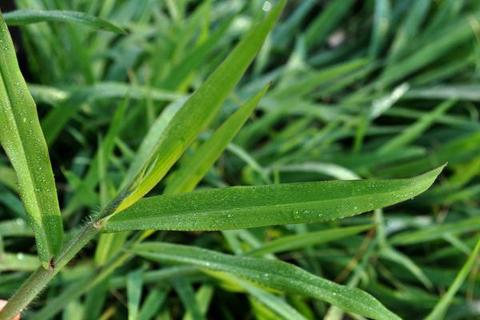crabgrass: (2, 39, 358, 319)
